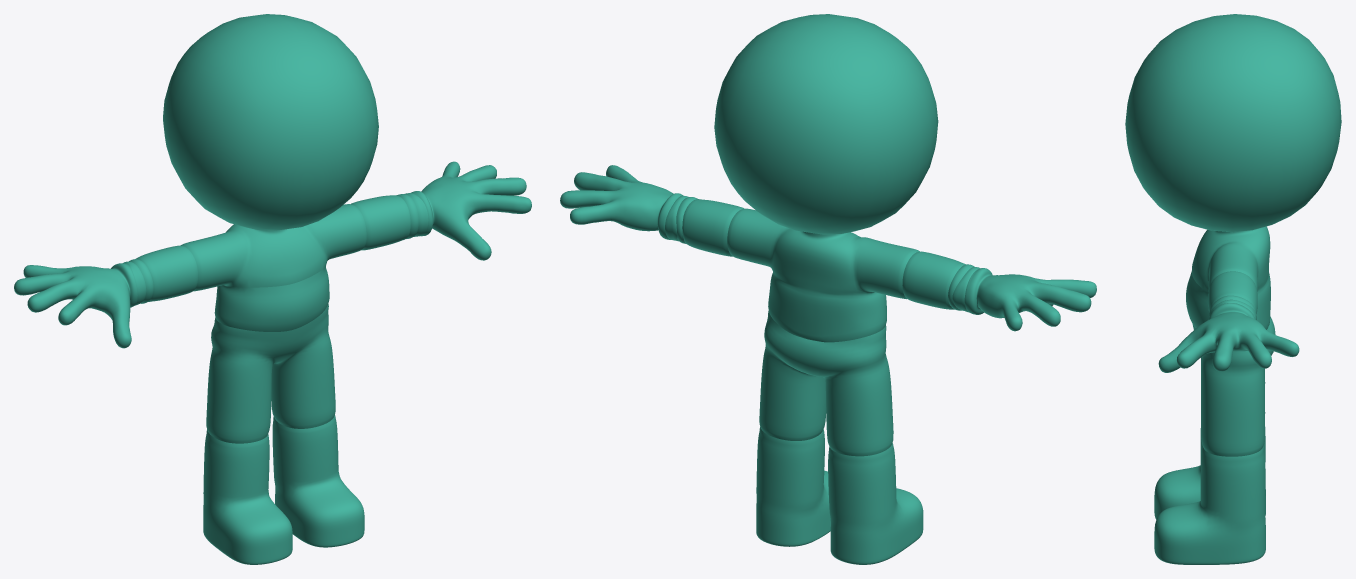
File: character.glb
The picture shows the model from 3 angles, left to right: view 1: azimuth 30°, elevation 25°; view 2: azimuth 150°, elevation 25°; view 3: azimuth 270°, elevation 25°; orthographic projection. The views are drawn at different scales.
Parts seen in each view (by area): view 1: body, head; view 2: body, head; view 3: head, body.
Boxes of the visible parts, x1=… form: body: x1=14, y1=161, x2=531, y2=564; head: x1=163, y1=14, x2=378, y2=230; body: x1=560, y1=165, x2=1096, y2=564; head: x1=714, y1=14, x2=938, y2=234; head: x1=1125, y1=14, x2=1341, y2=232; body: x1=1154, y1=226, x2=1299, y2=564.
Bounding box in the file's own units: 1.55 × 1.49 × 0.5739.
